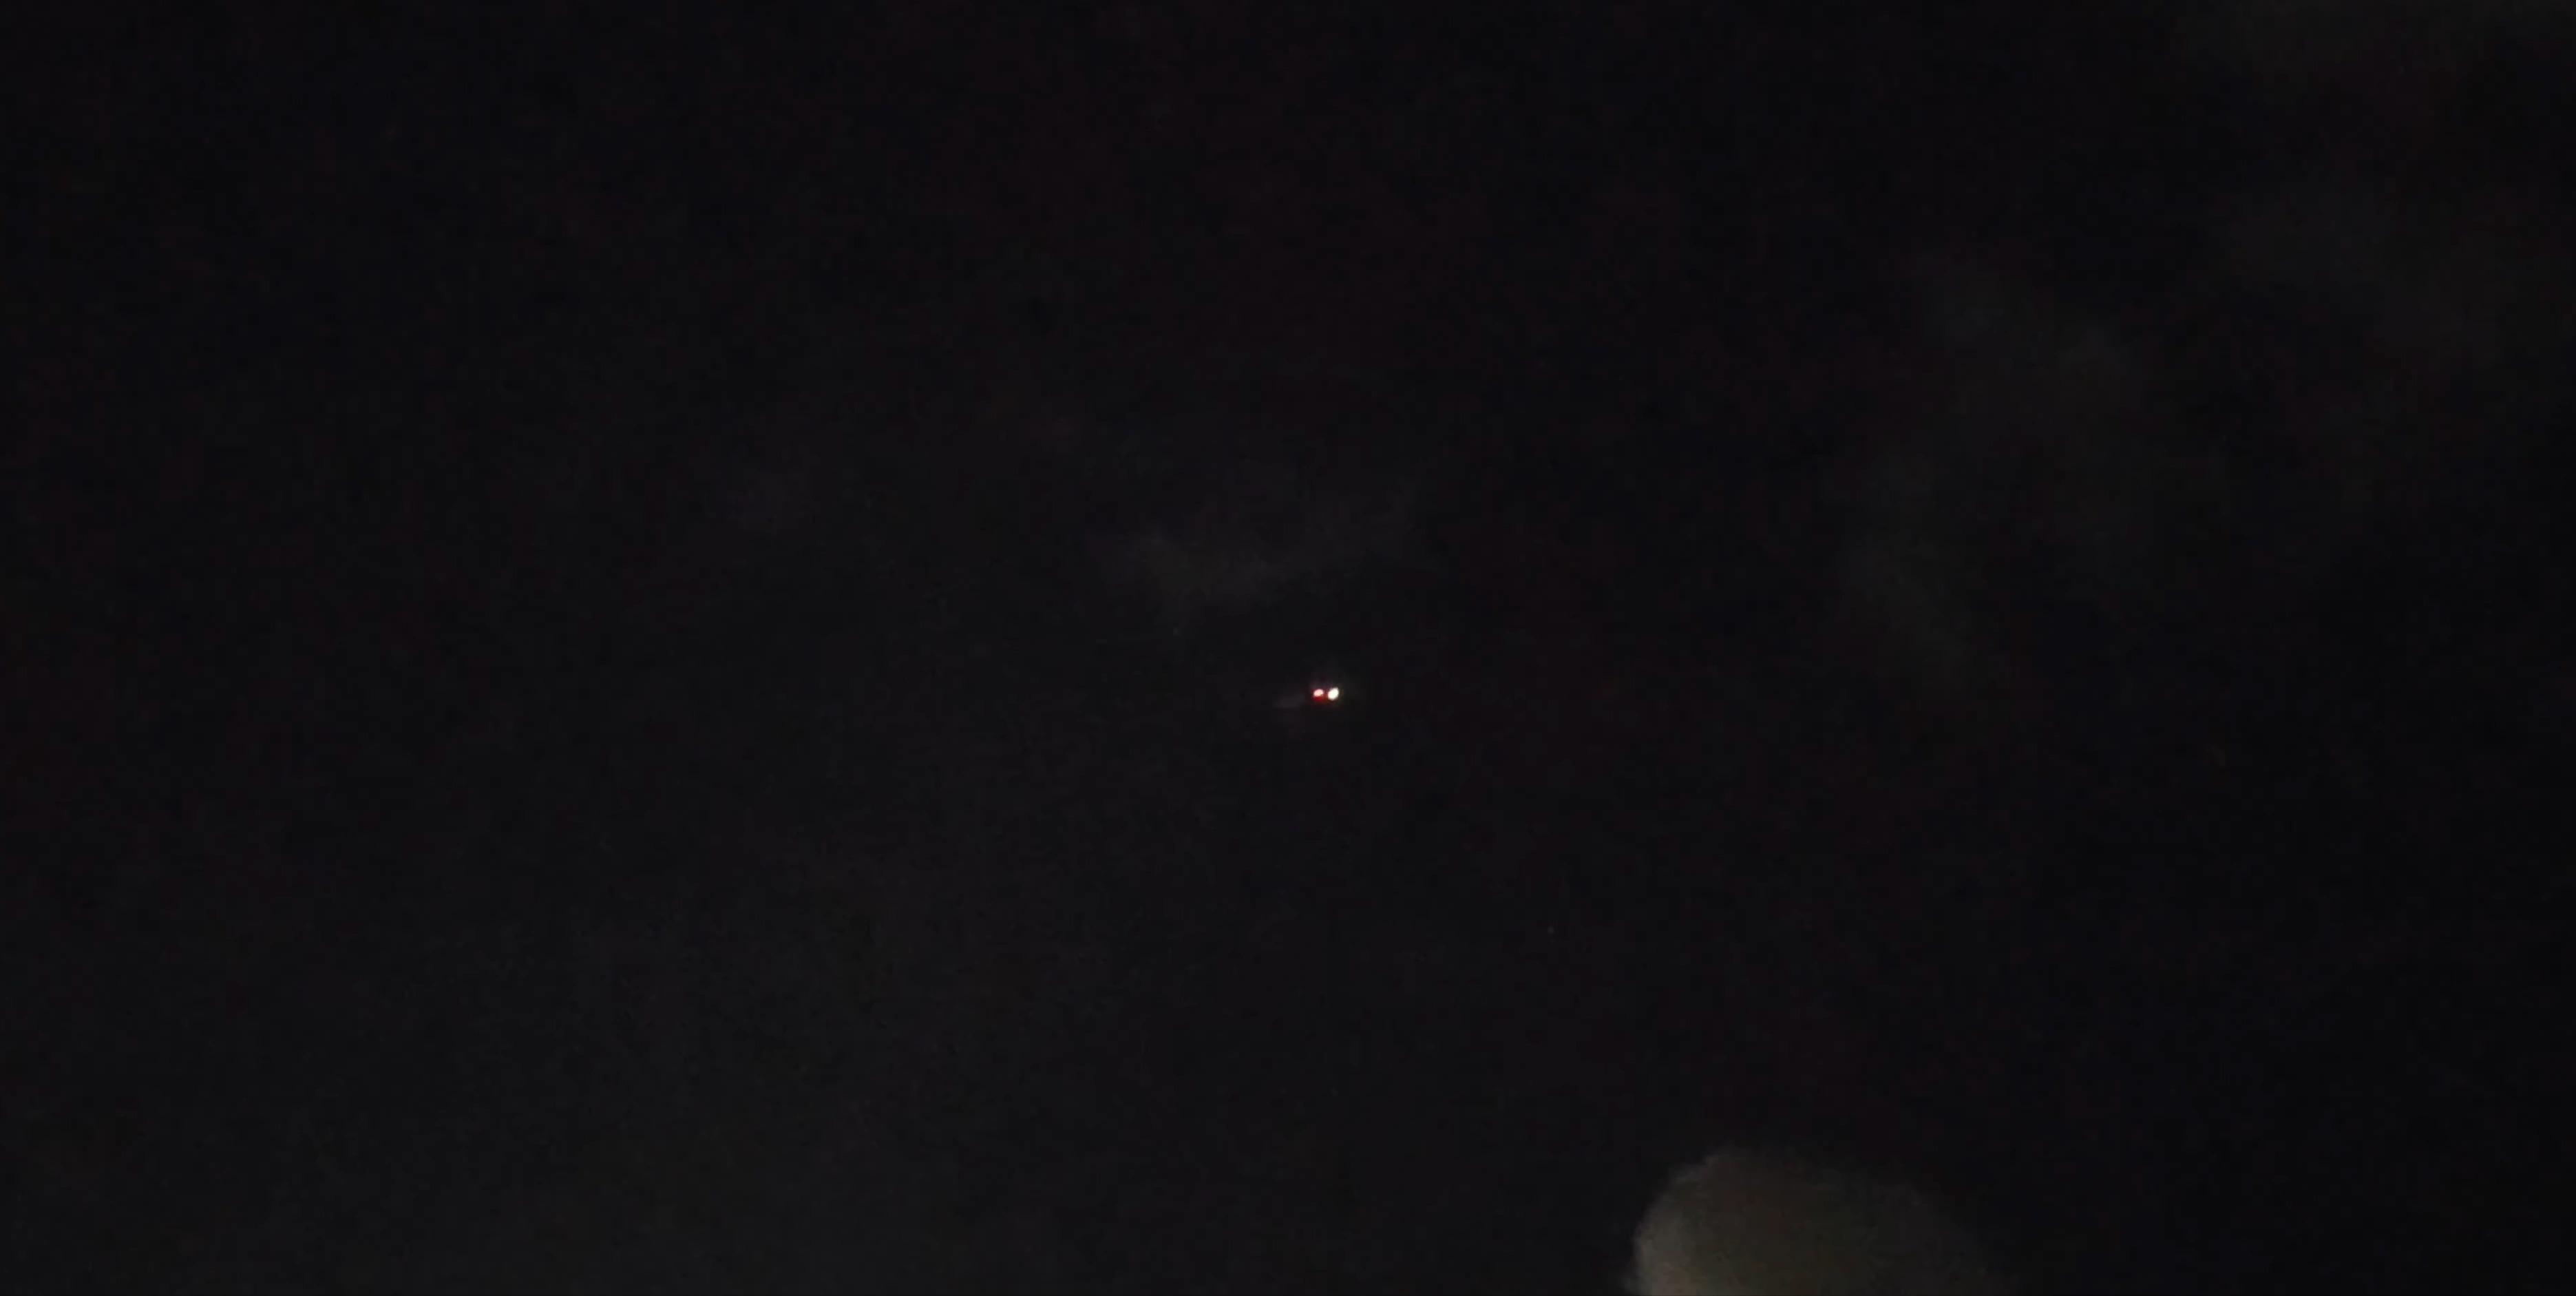Plane: (1221, 661, 1416, 737)
